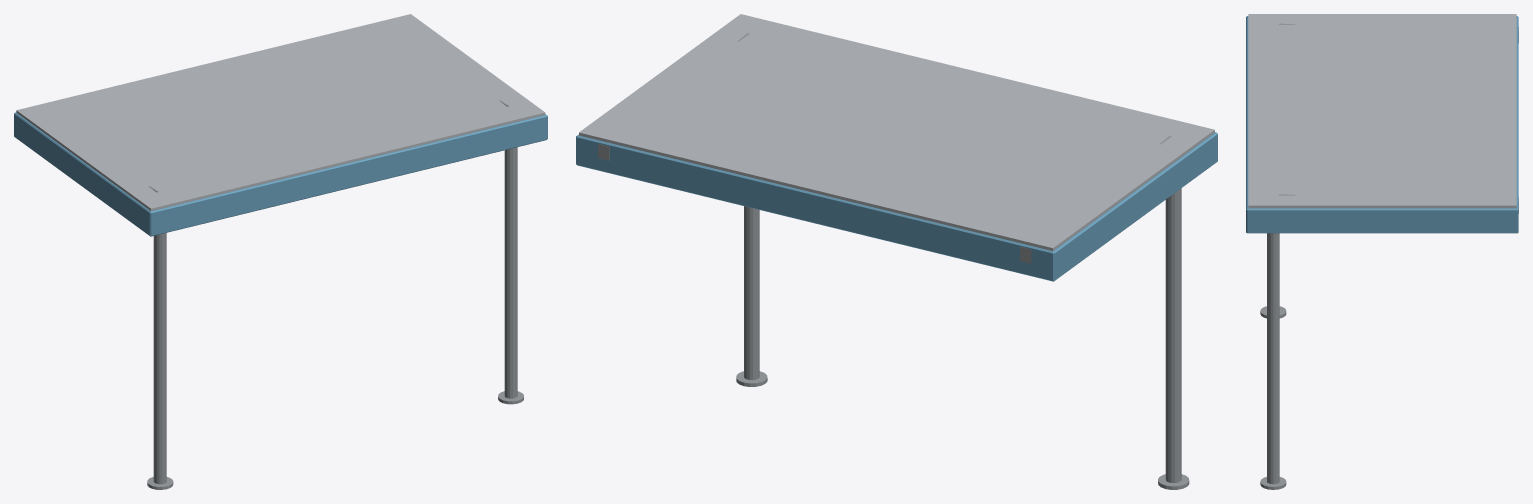
File: entry_canopy.glb
3 views of the same model, side by side, from view 1: azimuth 30°, elevation 25°; view 2: azimuth 150°, elevation 25°; view 3: azimuth 270°, elevation 25° (orthographic). The views are drawn at different scales.
Parts seen in each view (by area): view 1: entry_canopy_metal, entry_canopy_canopy_b, entry_canopy_steel; view 2: entry_canopy_metal, entry_canopy_canopy_b, entry_canopy_steel; view 3: entry_canopy_metal, entry_canopy_canopy_b, entry_canopy_steel.
Boxes of the visible parts, x1,y1,x2,y2 form: entry_canopy_metal: [16, 14, 545, 211]; entry_canopy_canopy_b: [14, 112, 547, 236]; entry_canopy_steel: [147, 100, 523, 489]; entry_canopy_metal: [579, 14, 1214, 250]; entry_canopy_canopy_b: [576, 132, 1217, 281]; entry_canopy_steel: [598, 33, 1189, 489]; entry_canopy_metal: [1248, 14, 1516, 208]; entry_canopy_canopy_b: [1246, 16, 1518, 233]; entry_canopy_steel: [1260, 23, 1518, 489].
Size of the model in its own units: 4.2 by 2.93 by 2.5.
